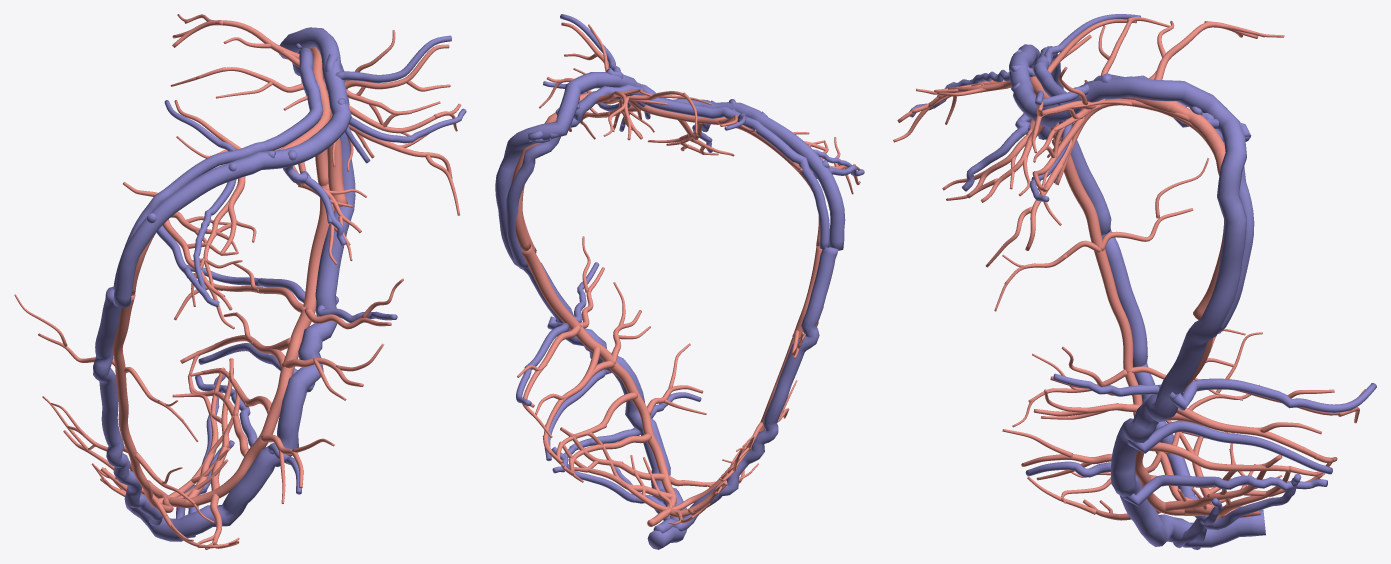
The model's file is vessels_70.glb.
3 views of the same model, side by side, from view 1: azimuth 30°, elevation 25°; view 2: azimuth 150°, elevation 25°; view 3: azimuth 270°, elevation 25° (orthographic). The views are drawn at different scales.
Visible parts, largest first — view 1: Renderer Node; view 2: Renderer Node; view 3: Renderer Node.
Part boxes in pixels (box(x1,y1,x2,y2)): Renderer Node: box(14, 14, 466, 549); Renderer Node: box(495, 14, 864, 549); Renderer Node: box(893, 14, 1376, 549).
Size of the model in its own units: 95.16 by 124 by 95.65.
